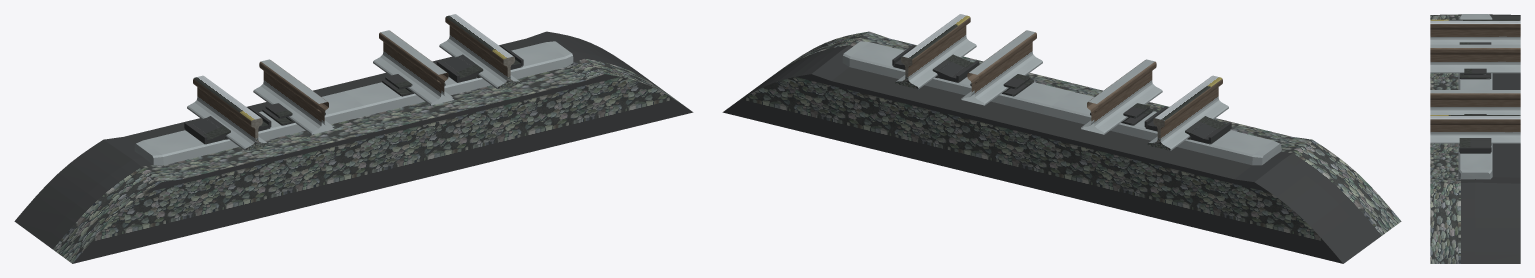
The model's file is center_guard_low.obj.
3 renders of one model, left to right at view 1: azimuth 30°, elevation 25°; view 2: azimuth 150°, elevation 25°; view 3: azimuth 270°, elevation 25°, orthographic. The views are drawn at different scales.
Parts seen in each view (by area): view 1: ballast, sleeper, center_guard_left, center_guard_right, rail_left, rail_right, fastener_left, fastener_right, center_fastener_left, center_fastener_right; view 2: ballast, sleeper, center_guard_left, center_guard_right, rail_left, rail_right, fastener_left, fastener_right, center_fastener_left, center_fastener_right; view 3: ballast, center_guard_left, rail_right, rail_left, center_guard_right, sleeper, fastener_right, center_fastener_left, fastener_left.
Boxes of the visible parts, left/top/right/bottom form: ballast: left=14, top=31, right=693, bottom=263; sleeper: left=134, top=41, right=573, bottom=165; center_guard_left: left=253, top=59, right=334, bottom=134; center_guard_right: left=373, top=30, right=454, bottom=105; rail_left: left=187, top=75, right=266, bottom=150; rail_right: left=439, top=14, right=519, bottom=88; fastener_left: left=184, top=106, right=271, bottom=144; fastener_right: left=436, top=45, right=523, bottom=82; center_fastener_left: left=262, top=103, right=325, bottom=125; center_fastener_right: left=382, top=74, right=445, bottom=96; ballast: left=722, top=31, right=1401, bottom=263; sleeper: left=842, top=41, right=1281, bottom=165; center_guard_left: left=1081, top=59, right=1162, bottom=134; center_guard_right: left=961, top=30, right=1042, bottom=105; rail_left: left=1149, top=75, right=1228, bottom=150; rail_right: left=896, top=14, right=976, bottom=88; fastener_left: left=1144, top=106, right=1231, bottom=144; fastener_right: left=892, top=45, right=979, bottom=82; center_fastener_left: left=1090, top=103, right=1153, bottom=125; center_fastener_right: left=970, top=74, right=1033, bottom=96; ballast: left=1430, top=14, right=1520, bottom=263; center_guard_left: left=1430, top=44, right=1520, bottom=73; rail_right: left=1430, top=115, right=1520, bottom=143; rail_left: left=1430, top=19, right=1520, bottom=44; center_guard_right: left=1430, top=90, right=1520, bottom=114; sleeper: left=1458, top=14, right=1492, bottom=179; fastener_right: left=1459, top=138, right=1491, bottom=153; center_fastener_left: left=1459, top=68, right=1491, bottom=79; fastener_left: left=1459, top=42, right=1491, bottom=44.
Bounding box in the file's own units: 3.7 × 0.5683 × 0.6.
